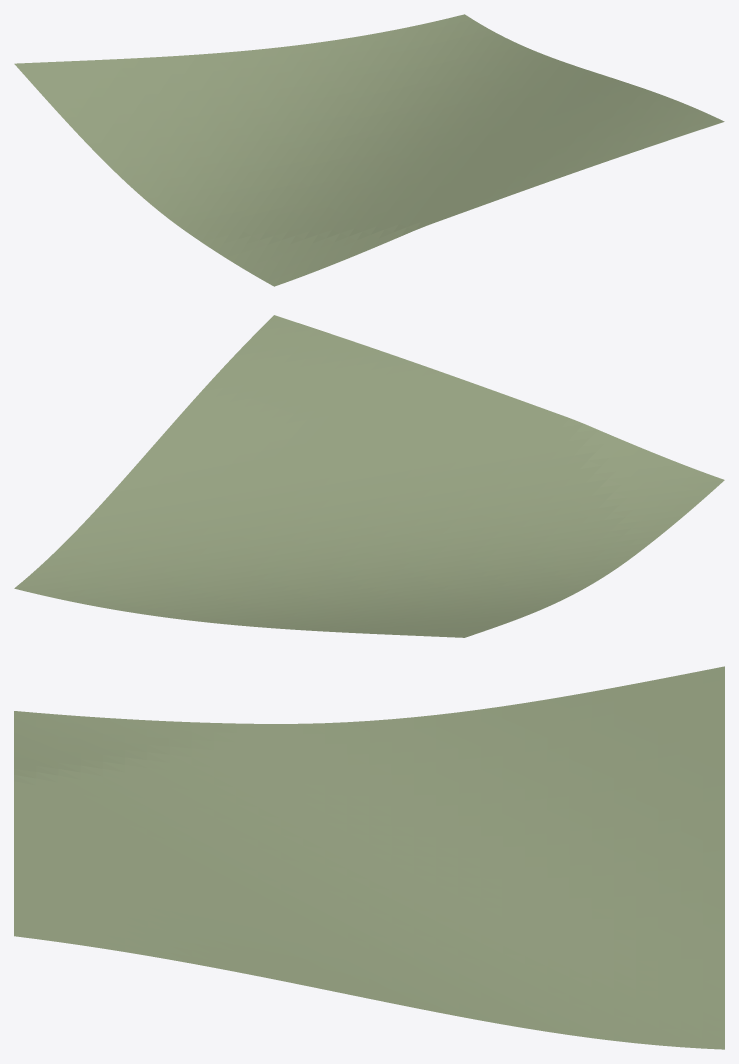
The model's file is expanse-9-22.glb.
3 views of the same model, one above another, from view 1: azimuth 30°, elevation 25°; view 2: azimuth 150°, elevation 25°; view 3: azimuth 270°, elevation 25° (orthographic). The views are drawn at different scales.
Parts seen in each view (by area): view 1: expanse-9-22; view 2: expanse-9-22; view 3: expanse-9-22.
Boxes of the visible parts, x1=… form: expanse-9-22: x1=14, y1=14, x2=724, y2=286; expanse-9-22: x1=14, y1=315, x2=724, y2=637; expanse-9-22: x1=14, y1=666, x2=724, y2=1049.
Size of the model in its own units: 256 by 45.07 by 256.
